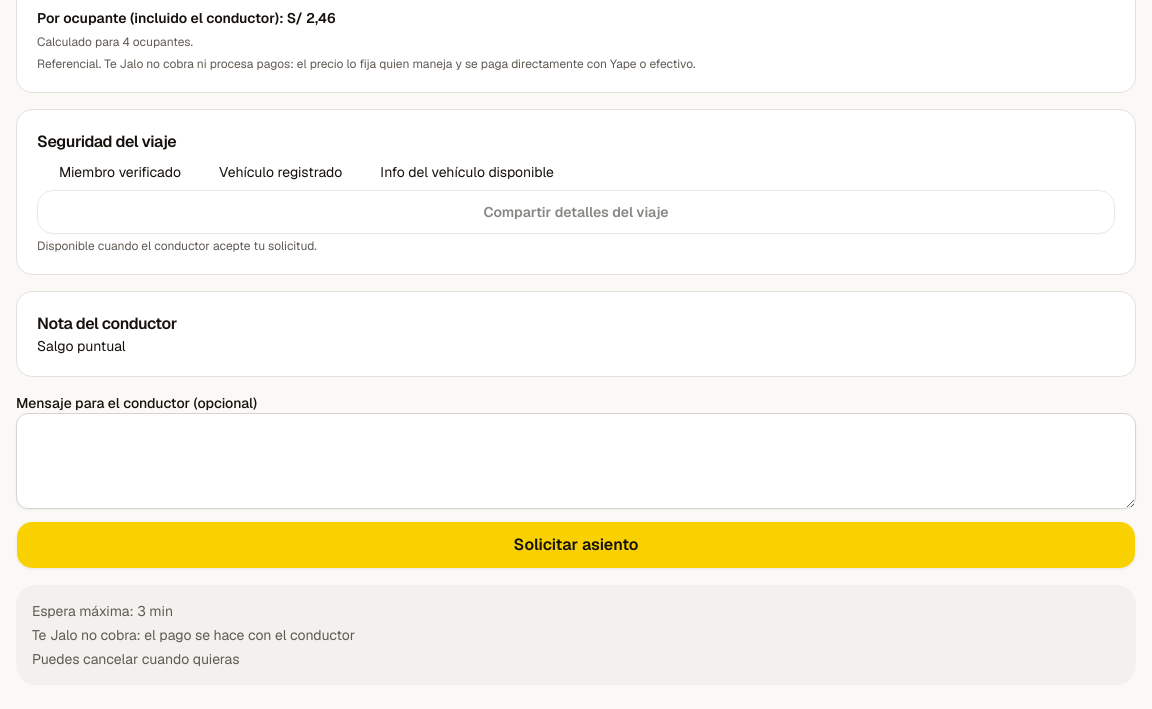
Test case: trip detail /viajes/{id} (US-014) › shows the server's reason when the seat cannot be requested and keeps the request unsent
This screenshot has width=1152, height=709.
(page scrolled)
Click the button "Solicitar asiento" at coordinates (576, 545), box x1=16 y1=521 x2=1136 y2=569
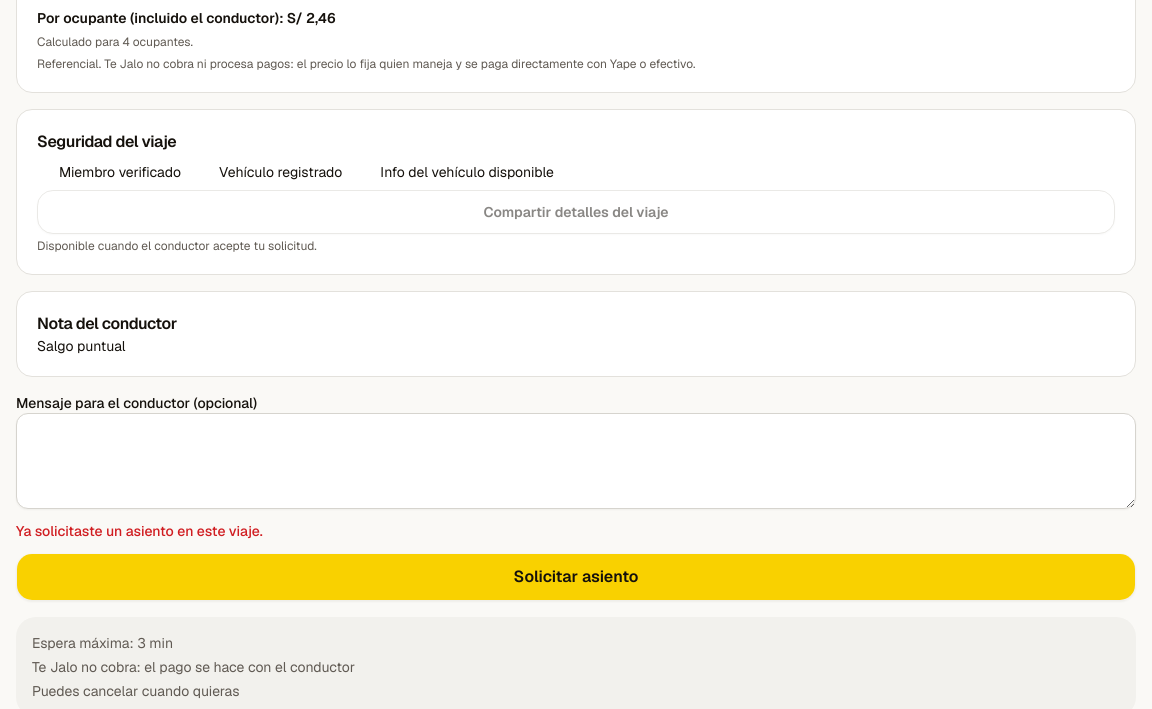
Expected: the message reads "Ya solicitaste un asiento en este viaje.", x1=16 y1=522 x2=263 y2=540
